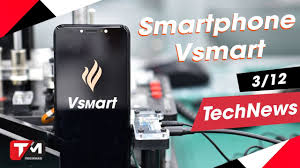vsmart: (54, 24, 134, 168)
